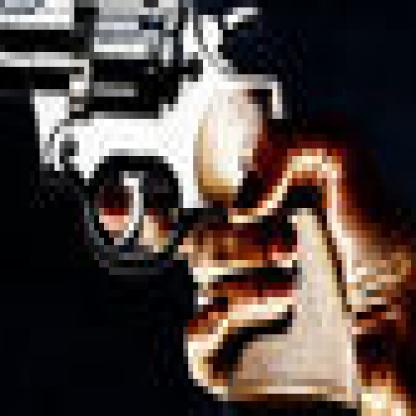gun: (0, 0, 401, 409)
